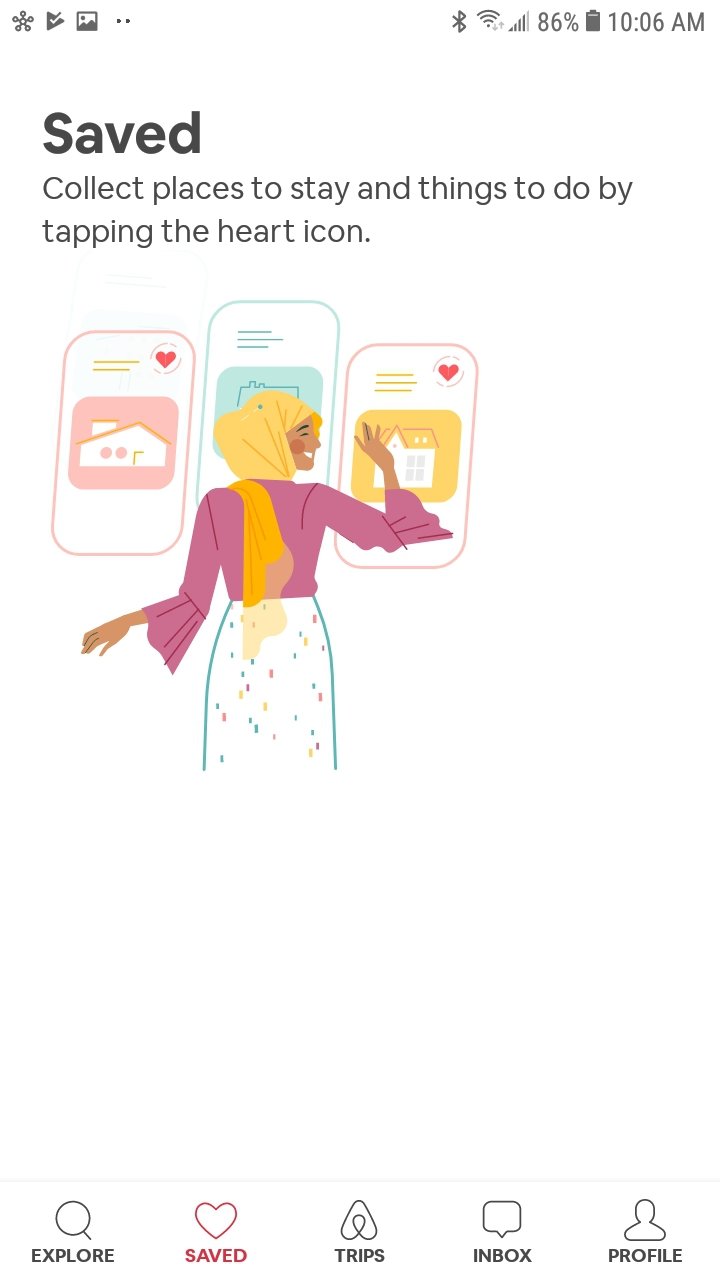Icon: (623, 1198, 667, 1242), (194, 1201, 238, 1239), (482, 1200, 522, 1240), (55, 1200, 93, 1241)
Image: (50, 300, 480, 772), (341, 1199, 379, 1241)
Text: (42, 176, 634, 250), (44, 111, 202, 156), (32, 1248, 116, 1263), (609, 1248, 683, 1263), (185, 1248, 248, 1263), (473, 1248, 533, 1263), (334, 1248, 386, 1263)
UpperTaskBar: (1, 1, 720, 35)
